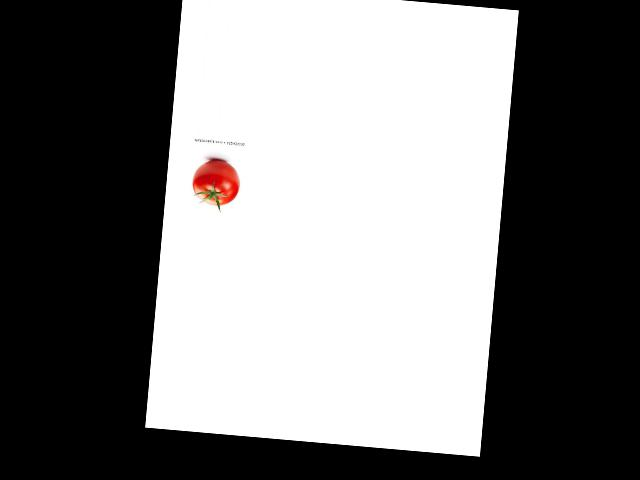tomato: (191, 158, 241, 207)
